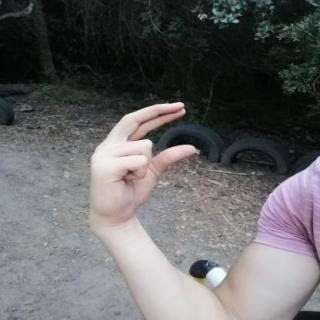DHELL: (78, 95, 206, 233)
